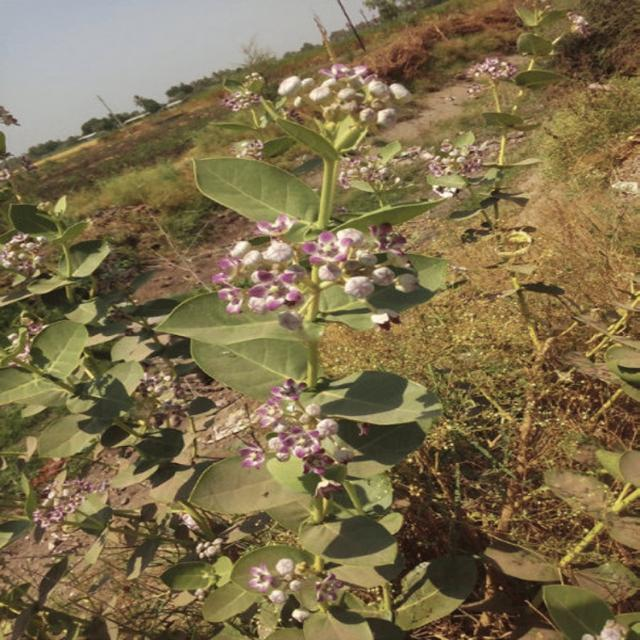Poisonous-Calatropis: (192, 64, 496, 639), (6, 195, 204, 547)
